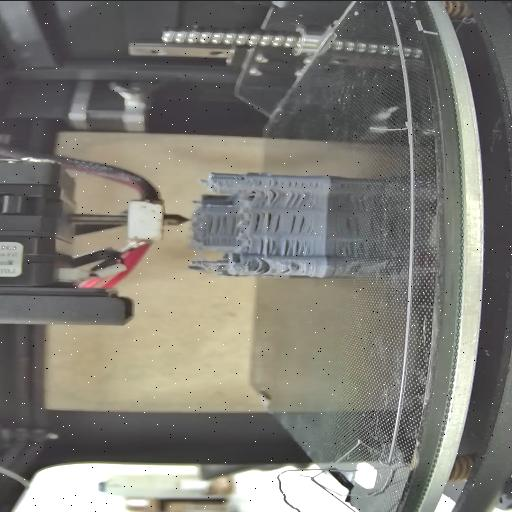cracks: (258, 236, 310, 256), (206, 212, 238, 234), (252, 212, 282, 234), (260, 178, 326, 186), (287, 212, 312, 233), (256, 187, 280, 205), (285, 190, 309, 207), (276, 265, 300, 273), (254, 261, 268, 273), (230, 176, 246, 182)
